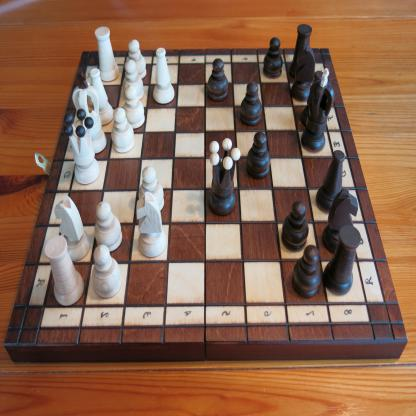black-bishop: (315, 149, 346, 214), (299, 70, 325, 128)
black-king: (300, 67, 335, 154)
black-knight: (322, 187, 358, 255), (290, 44, 316, 102)
black-pawn: (291, 243, 322, 299), (281, 199, 309, 252), (246, 131, 271, 180), (240, 80, 264, 127), (206, 56, 229, 102), (262, 36, 283, 79)
black-queen: (208, 137, 241, 216)
black-rook: (322, 224, 362, 295), (288, 22, 313, 80)
white-bishop: (89, 67, 114, 126), (152, 46, 175, 104)
white-king: (72, 69, 108, 155)
white-knight: (50, 191, 88, 258), (135, 191, 167, 258)
white-pawn: (92, 244, 122, 299), (93, 201, 123, 253), (138, 165, 164, 214), (110, 106, 136, 153), (121, 84, 145, 130), (121, 60, 144, 102), (127, 39, 149, 81)
white-queen: (63, 107, 101, 185)
white-rook: (44, 234, 85, 307), (94, 27, 120, 83)
